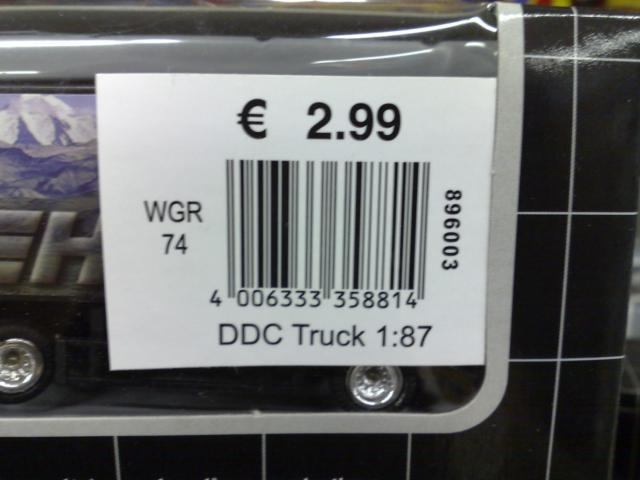Barcode: (205, 152, 431, 319)
